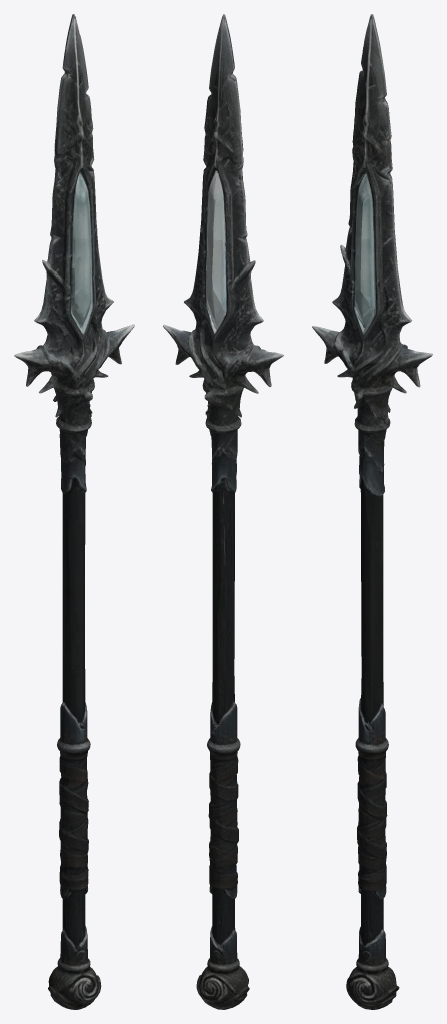
The picture shows the model from 3 angles, left to right: view 1: azimuth 30°, elevation 25°; view 2: azimuth 150°, elevation 25°; view 3: azimuth 330°, elevation 25°; orthographic projection.
Parts seen in each view (by area): view 1: mesh_node; view 2: mesh_node; view 3: mesh_node.
Part boxes in pixels (left/top/right/bottom): mesh_node: left=14, top=14, right=134, bottom=1009; mesh_node: left=163, top=14, right=283, bottom=1009; mesh_node: left=312, top=14, right=432, bottom=1009.
Bounding box in the file's own units: 0.2417 × 1.9 × 0.1131.
Materials: 1 (1 with a texture image).
